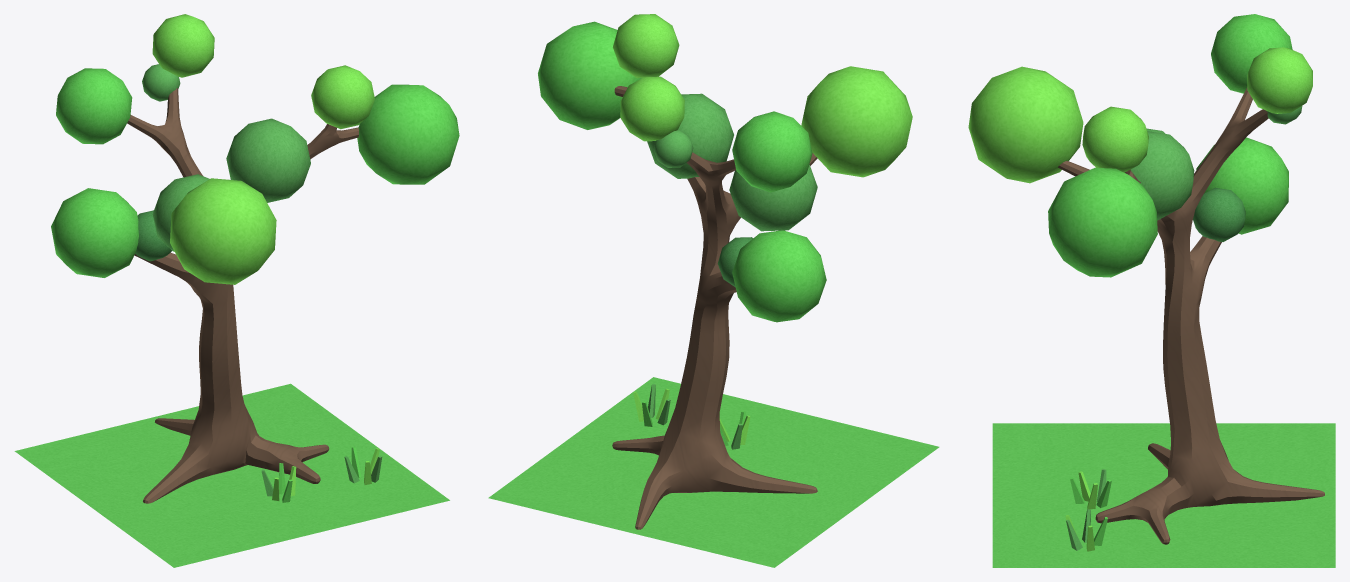
The model's file is park_10.fbx.
3 views of the same model, side by side, from view 1: azimuth 30°, elevation 25°; view 2: azimuth 150°, elevation 25°; view 3: azimuth 270°, elevation 25° (orthographic). The views are drawn at different scales.
Visible parts, largest first — view 1: tree.001, park_green.017, grass.031, grass.032; view 2: tree.001, park_green.017, grass.031, grass.032; view 3: tree.001, park_green.017, grass.032, grass.031.
Part boxes in pixels (<box>): tree.001: <box>51,14,459,503</box>; park_green.017: <box>14,383,449,567</box>; grass.031: <box>344,446,382,484</box>; grass.032: <box>261,463,296,502</box>; tree.001: <box>538,14,912,529</box>; park_green.017: <box>488,377,939,567</box>; grass.031: <box>633,384,670,426</box>; grass.032: <box>719,411,750,449</box>; tree.001: <box>968,14,1324,544</box>; park_green.017: <box>992,423,1335,567</box>; grass.032: <box>1070,469,1111,509</box>; grass.031: <box>1065,509,1107,551</box>.
Bounding box in the file's own units: 2.39 × 2.92 × 2.14.
2 materials, 2 textured.
